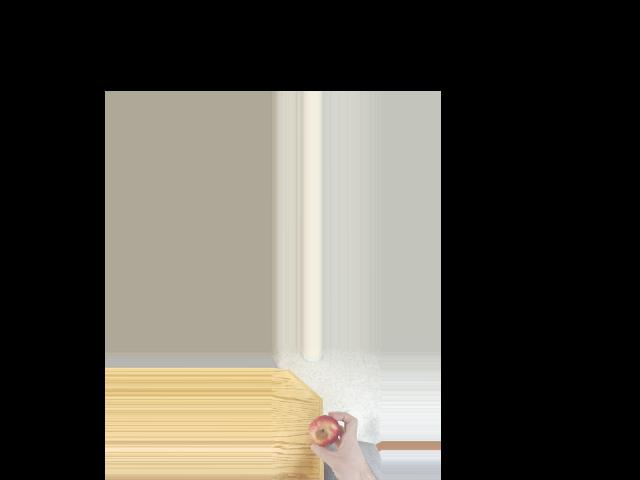apple: (308, 414, 339, 452)
